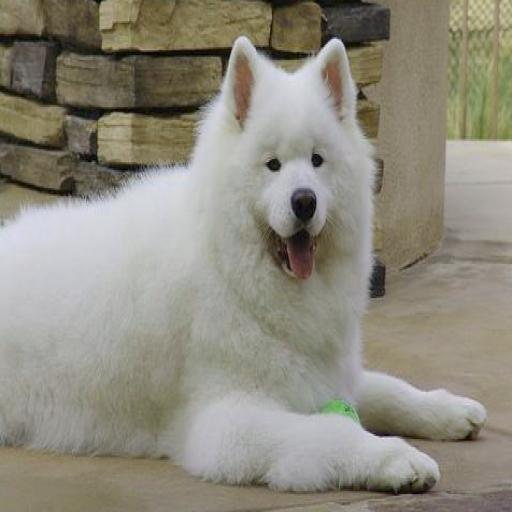dog_face: (205, 36, 372, 298)
